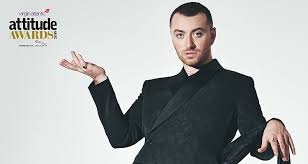No-Glasses: (167, 28, 210, 40)
